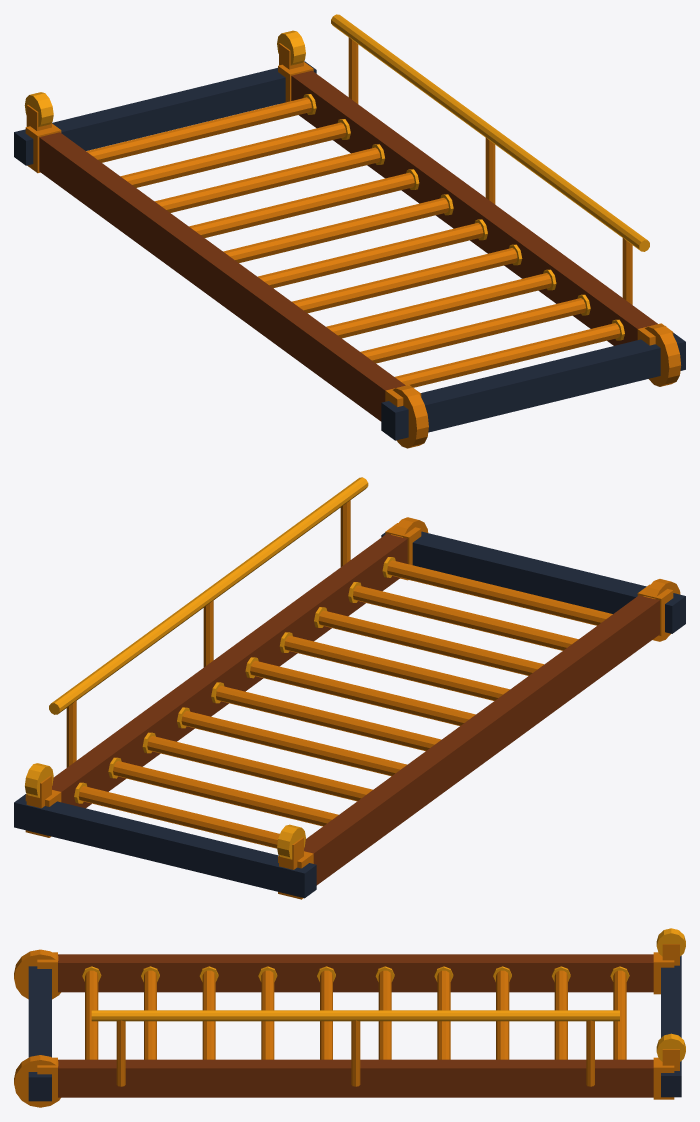
Rendered from escalera_biblioteca.glb.
3 renders of one model, top to bottom at view 1: azimuth 30°, elevation 25°; view 2: azimuth 150°, elevation 25°; view 3: azimuth 270°, elevation 25°, orthographic. The views are drawn at different scales.
Visible parts, largest first — view 1: Cube, Cube.003, Cube.006, Cube.007, Cylinder.039, Cylinder.003, Cylinder.018, Cylinder.024, Cylinder.006, Cylinder.009, Cylinder.027, Cylinder.015 (+10 smaller); view 2: Cube, Cube.003, Cube.007, Cube.006, Cylinder.039, Cylinder.024, Cylinder, Cylinder.012, Cylinder.018, Cylinder.021, Cylinder.003, Cylinder.006 (+8 smaller); view 3: Cube.003, Cube, Cylinder.039, Cube.006, Cube.007, Cylinder.027, Cylinder, Cylinder.018, Cylinder.006, Cylinder.009, Cylinder.015, Cylinder.021 (+16 smaller).
Boxes of the visible parts, x1,y1,x2,y2 form: Cube: (39, 132, 405, 421); Cube.003: (291, 70, 657, 345); Cube.006: (381, 333, 685, 440); Cube.007: (14, 61, 316, 165); Cylinder.039: (331, 14, 649, 251); Cylinder.003: (360, 298, 585, 363); Cylinder.018: (189, 172, 414, 237); Cylinder.024: (120, 122, 346, 187); Cylinder.006: (326, 273, 551, 338); Cylinder.009: (292, 248, 517, 313); Cylinder.027: (86, 97, 311, 162); Cylinder.015: (223, 197, 448, 262); Cube: (304, 595, 659, 885); Cube.003: (52, 533, 407, 808); Cube.007: (14, 794, 316, 898); Cube.006: (381, 531, 685, 633); Cylinder.039: (49, 477, 368, 714); Cylinder.024: (113, 761, 338, 826); Cylinder: (387, 560, 612, 625); Cylinder.012: (250, 660, 475, 725); Cylinder.018: (181, 710, 406, 776); Cylinder.021: (147, 736, 372, 801); Cylinder.003: (353, 585, 578, 650); Cylinder.006: (318, 610, 543, 675); Cube.003: (58, 1059, 653, 1097); Cube: (58, 954, 653, 992); Cylinder.039: (91, 1010, 619, 1021); Cube.006: (28, 966, 51, 1101); Cube.007: (661, 955, 681, 1097); Cylinder.027: (613, 970, 626, 1059); Cylinder: (85, 970, 98, 1059); Cylinder.018: (437, 970, 450, 1059); Cylinder.006: (202, 970, 215, 1059); Cylinder.009: (261, 970, 274, 1059); Cylinder.015: (378, 970, 391, 1059); Cylinder.021: (496, 970, 509, 1059).
Size of the model in its own units: 1.97 by 0.758 by 4.58.
